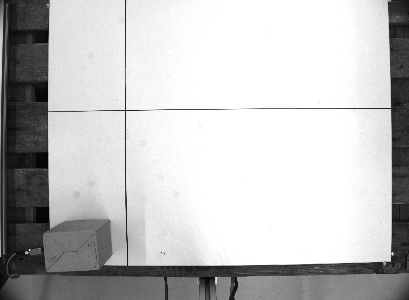b5: (41, 218, 114, 275)
